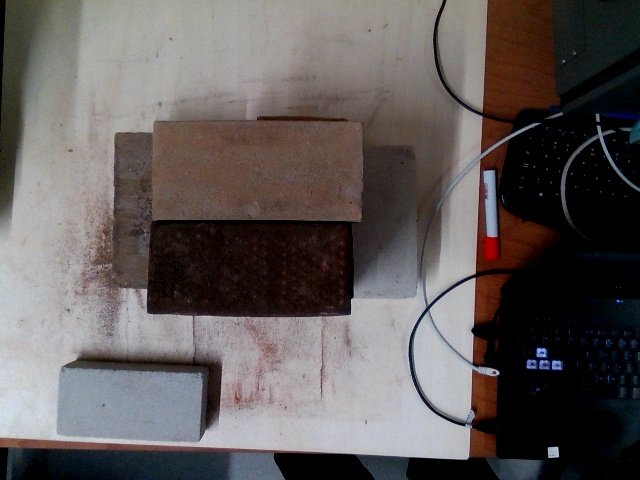brick: (151, 119, 359, 218), (147, 220, 349, 313), (57, 368, 201, 442)
